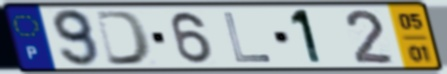1: (285, 7, 325, 67)
2: (344, 7, 398, 66)
6: (167, 9, 215, 66)
9: (49, 7, 104, 69)
D: (92, 9, 154, 67)
L: (220, 11, 275, 64)
